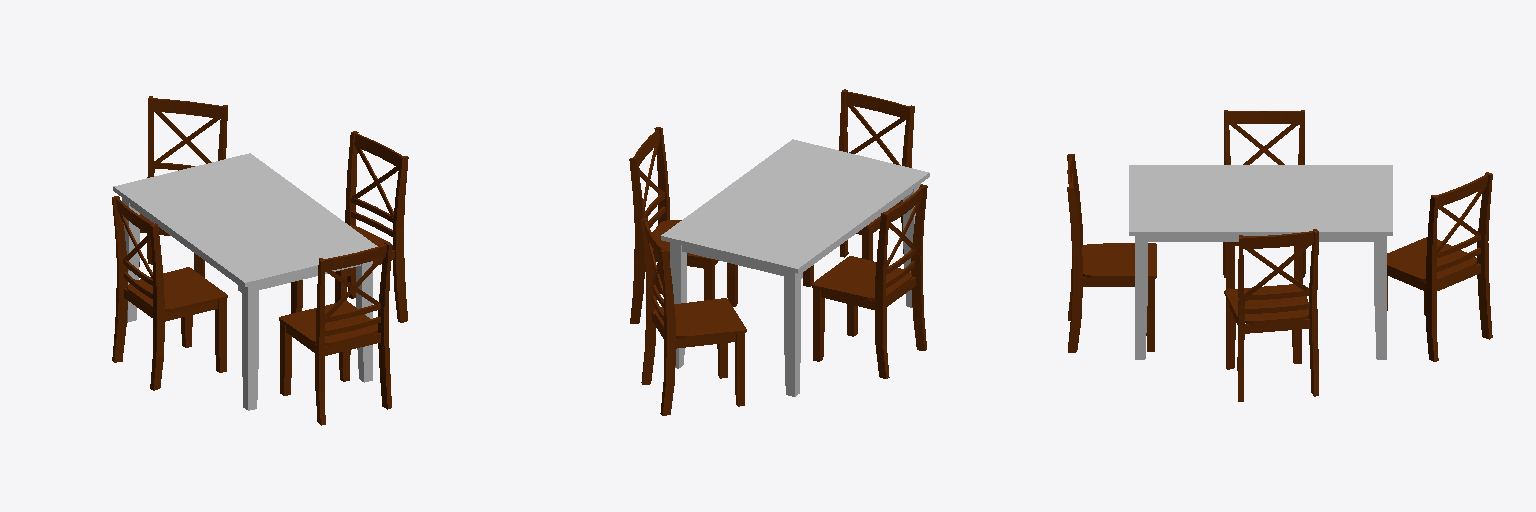
Rendered from MesaySillas.obj.
The picture shows the model from 3 angles: view 1: azimuth 30°, elevation 25°; view 2: azimuth 150°, elevation 25°; view 3: azimuth 270°, elevation 25°; orthographic projection.
Visible parts, largest first — view 1: Table_low_Material, Chair1_low_Material.005, Chair4_low_Material.005, Chair3_low_Material.005, Chair2_low_Material.005; view 2: Table_low_Material, Chair4_low_Material.005, Chair2_low_Material.005, Chair3_low_Material.005, Chair1_low_Material.005; view 3: Table_low_Material, Chair3_low_Material.005, Chair2_low_Material.005, Chair1_low_Material.005, Chair4_low_Material.005.
Part boxes in pixels (left/top/right/bottom): Table_low_Material: left=113, top=153, right=377, bottom=410; Chair1_low_Material.005: left=279, top=242, right=391, bottom=425; Chair4_low_Material.005: left=112, top=196, right=227, bottom=390; Chair3_low_Material.005: left=291, top=131, right=408, bottom=322; Chair2_low_Material.005: left=139, top=96, right=227, bottom=277; Table_low_Material: left=661, top=139, right=929, bottom=396; Chair4_low_Material.005: left=812, top=184, right=927, bottom=378; Chair2_low_Material.005: left=641, top=218, right=746, bottom=415; Chair3_low_Material.005: left=629, top=127, right=737, bottom=323; Chair1_low_Material.005: left=803, top=89, right=914, bottom=286; Table_low_Material: left=1129, top=165, right=1392, bottom=359; Chair3_low_Material.005: left=1224, top=229, right=1318, bottom=401; Chair2_low_Material.005: left=1387, top=172, right=1492, bottom=361; Chair1_low_Material.005: left=1067, top=154, right=1156, bottom=352; Chair4_low_Material.005: left=1223, top=110, right=1305, bottom=289.
Size of the model in its own units: 1.74 by 1.03 by 2.42.